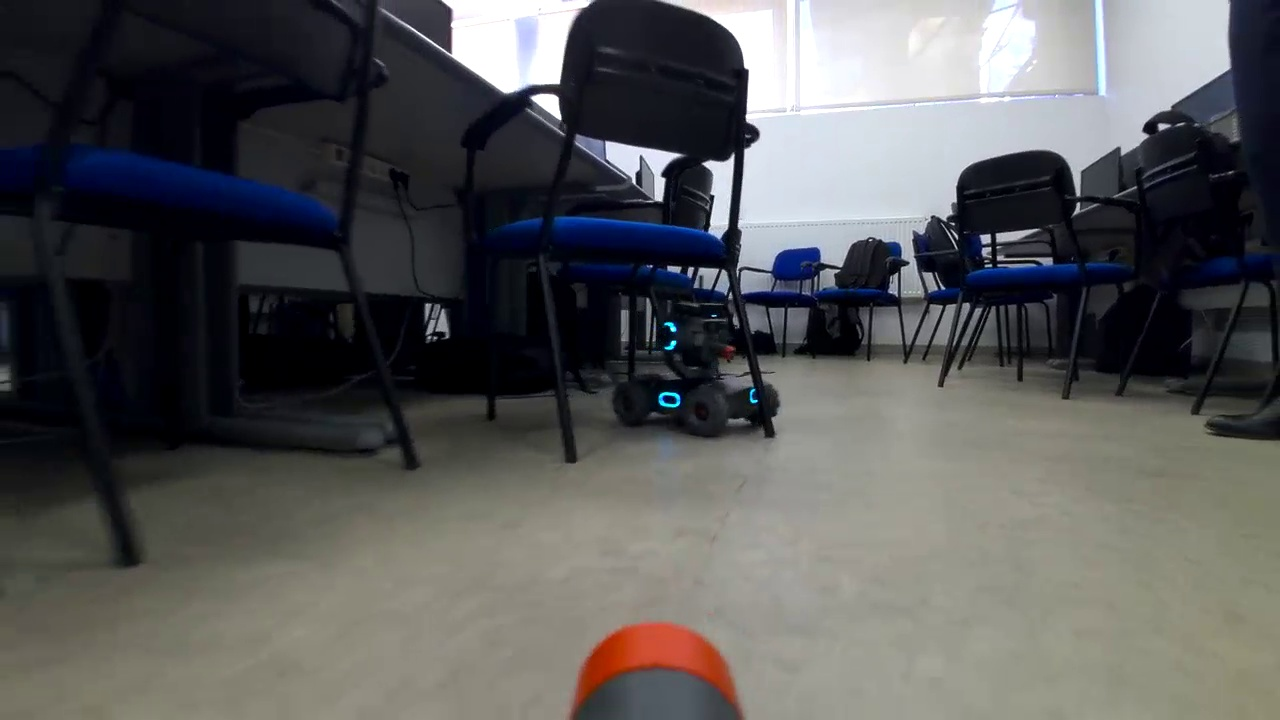robot: (606, 290, 790, 447)
